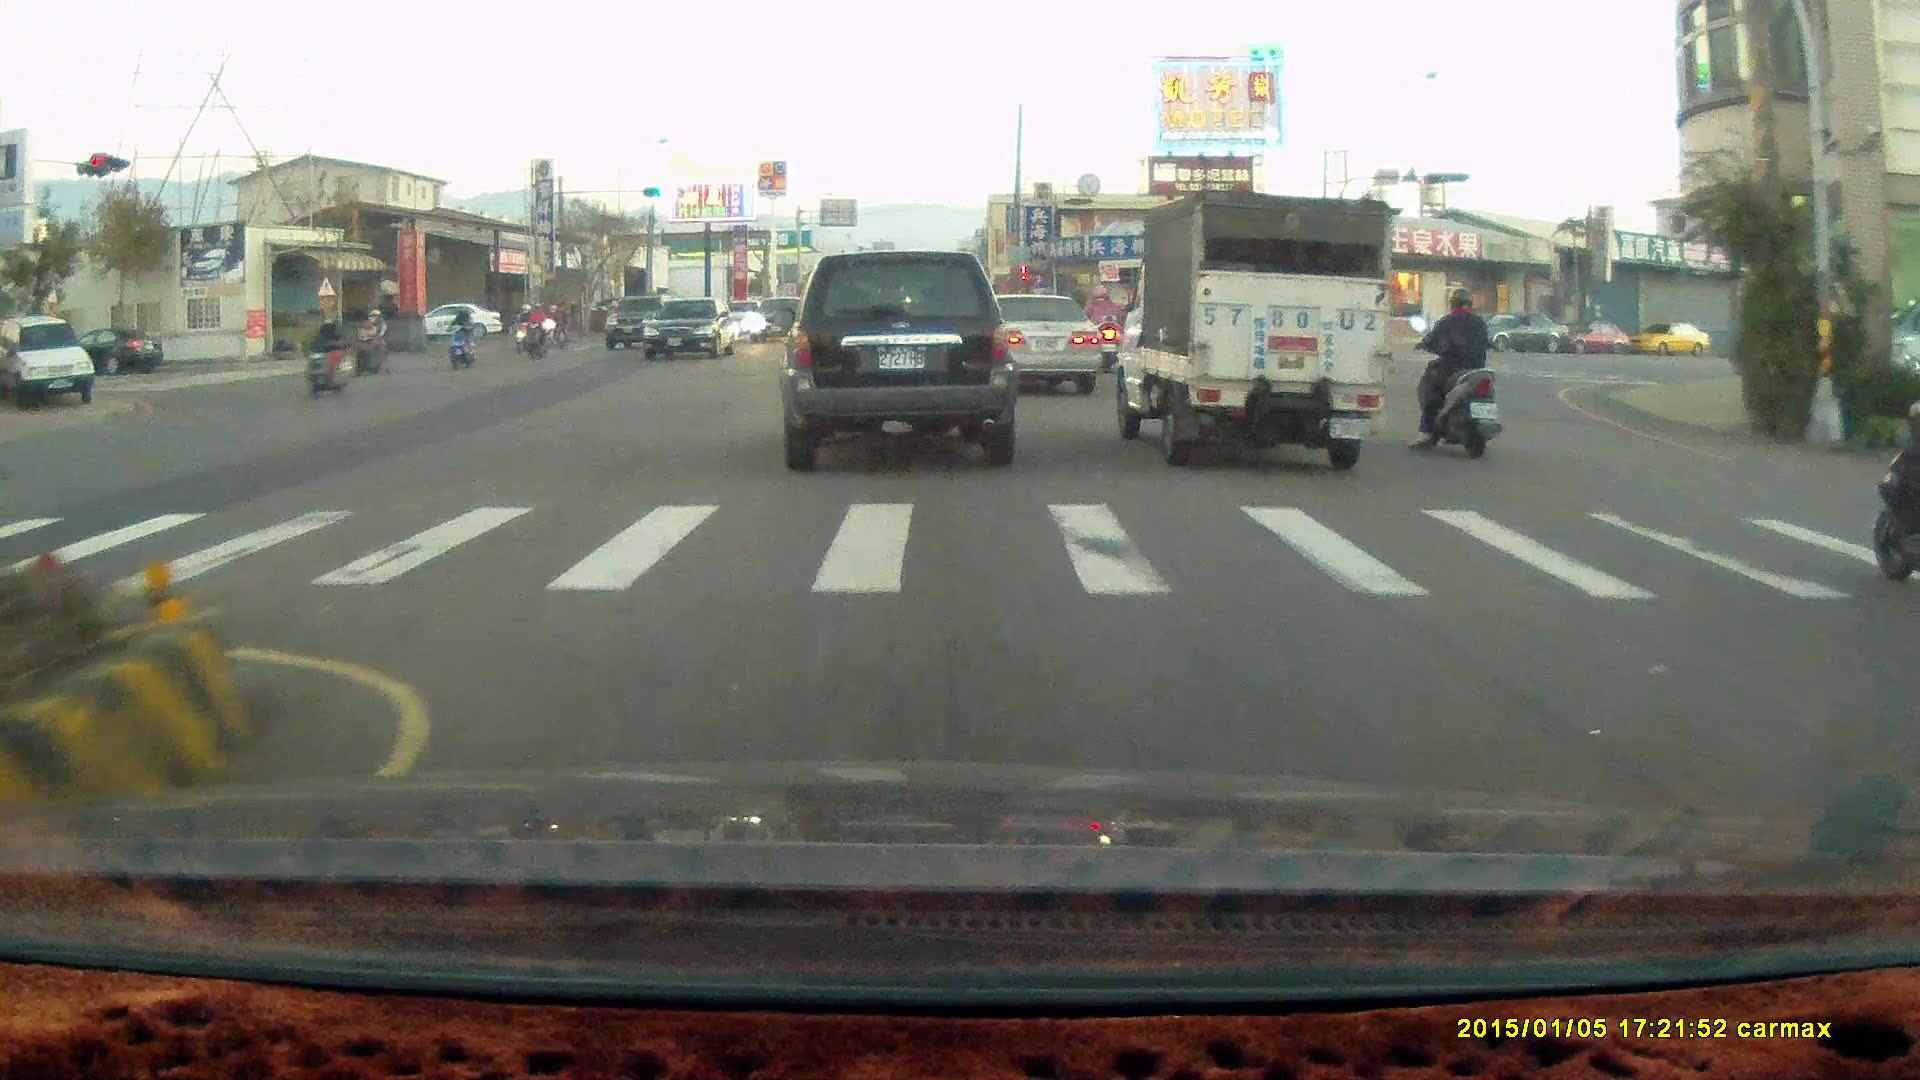rider: (1407, 281, 1504, 461), (1871, 419, 1920, 582), (305, 314, 352, 397), (351, 304, 392, 379), (444, 301, 475, 367), (519, 297, 549, 357), (510, 298, 540, 352)
vehicle: (1109, 187, 1392, 470), (777, 250, 1018, 471), (971, 290, 1104, 398), (968, 289, 1100, 392), (1, 314, 99, 408), (641, 297, 742, 363), (1464, 312, 1572, 358), (1625, 322, 1712, 360), (423, 303, 505, 342), (1559, 320, 1632, 358), (1883, 330, 1920, 396)
